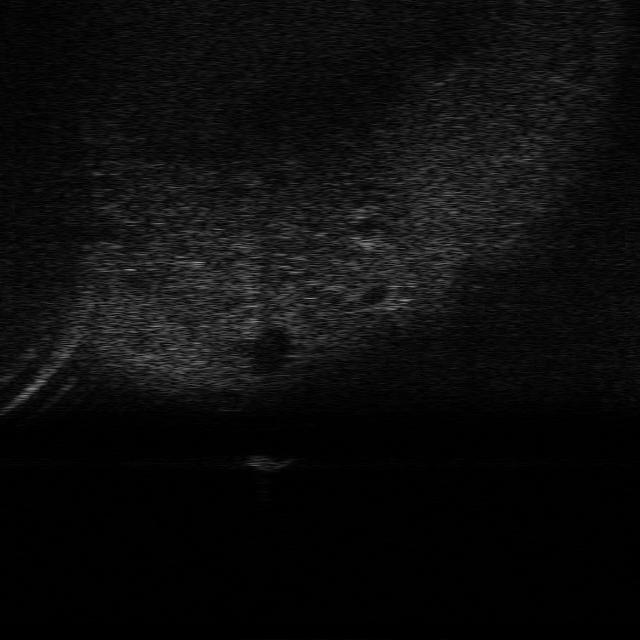cube: (245, 450, 295, 472)
